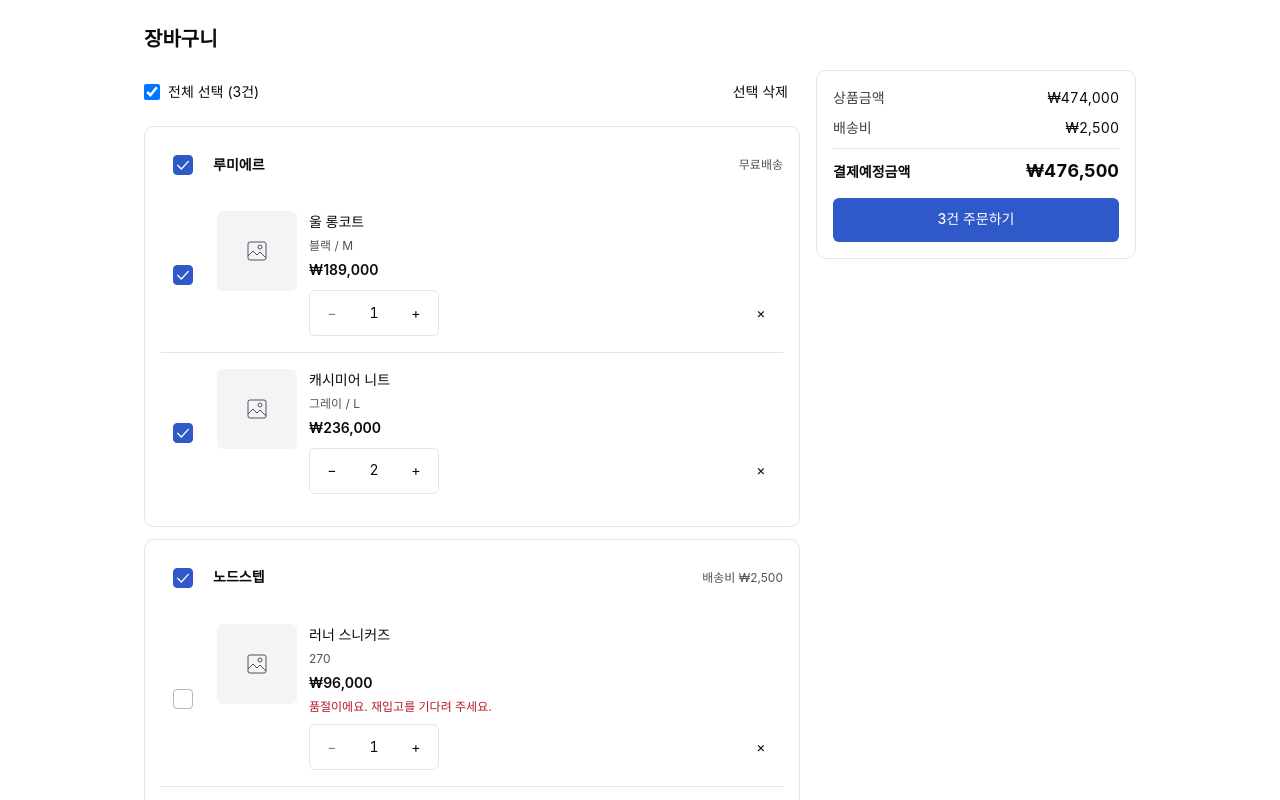
Test: 선택과 합계 (F2 · F4) › refuses to go past the seller’s purchase cap
Click the button named "수량 늘리기". click: x=416, y=313
box: [394,291,438,335]
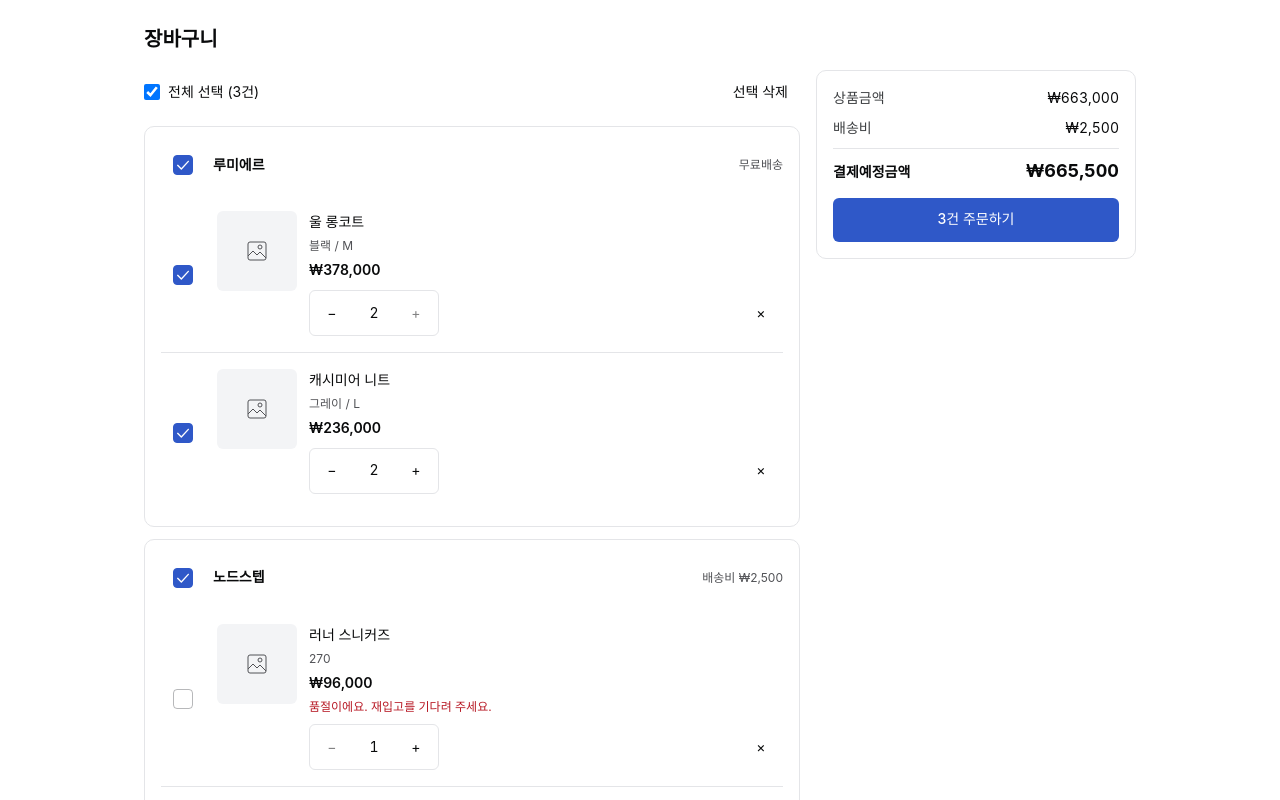
Expected: the text "2" below "₩378,000" is shown, [370,304,379,321]
